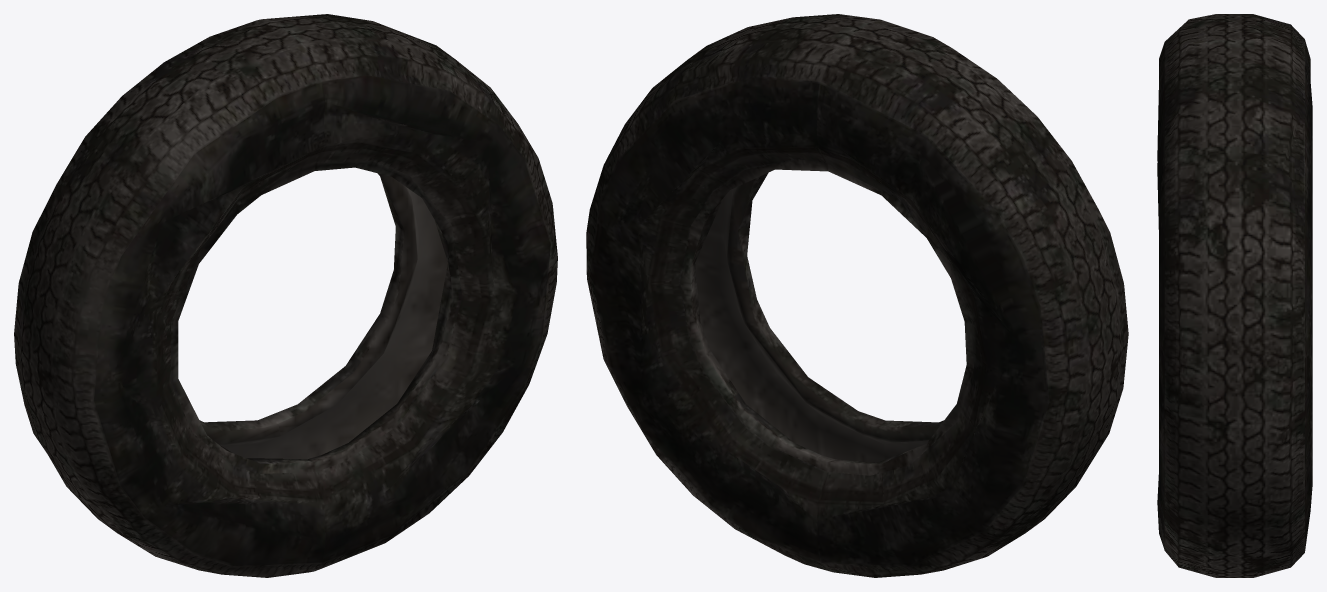
Rendered from tyre.glb.
The picture shows the model from 3 angles, left to right: view 1: azimuth 30°, elevation 25°; view 2: azimuth 150°, elevation 25°; view 3: azimuth 270°, elevation 25°; orthographic projection. The views are drawn at different scales.
Visible parts, largest first — view 1: old_tyre; view 2: old_tyre; view 3: old_tyre.
Boxes of the visible parts, left/top/right/bottom form: old_tyre: left=14, top=14, right=557, bottom=577; old_tyre: left=586, top=14, right=1128, bottom=577; old_tyre: left=1157, top=14, right=1312, bottom=577.
Bounding box in the file's own units: 0.6 × 0.6 × 0.165.
1 material, 1 textured.
